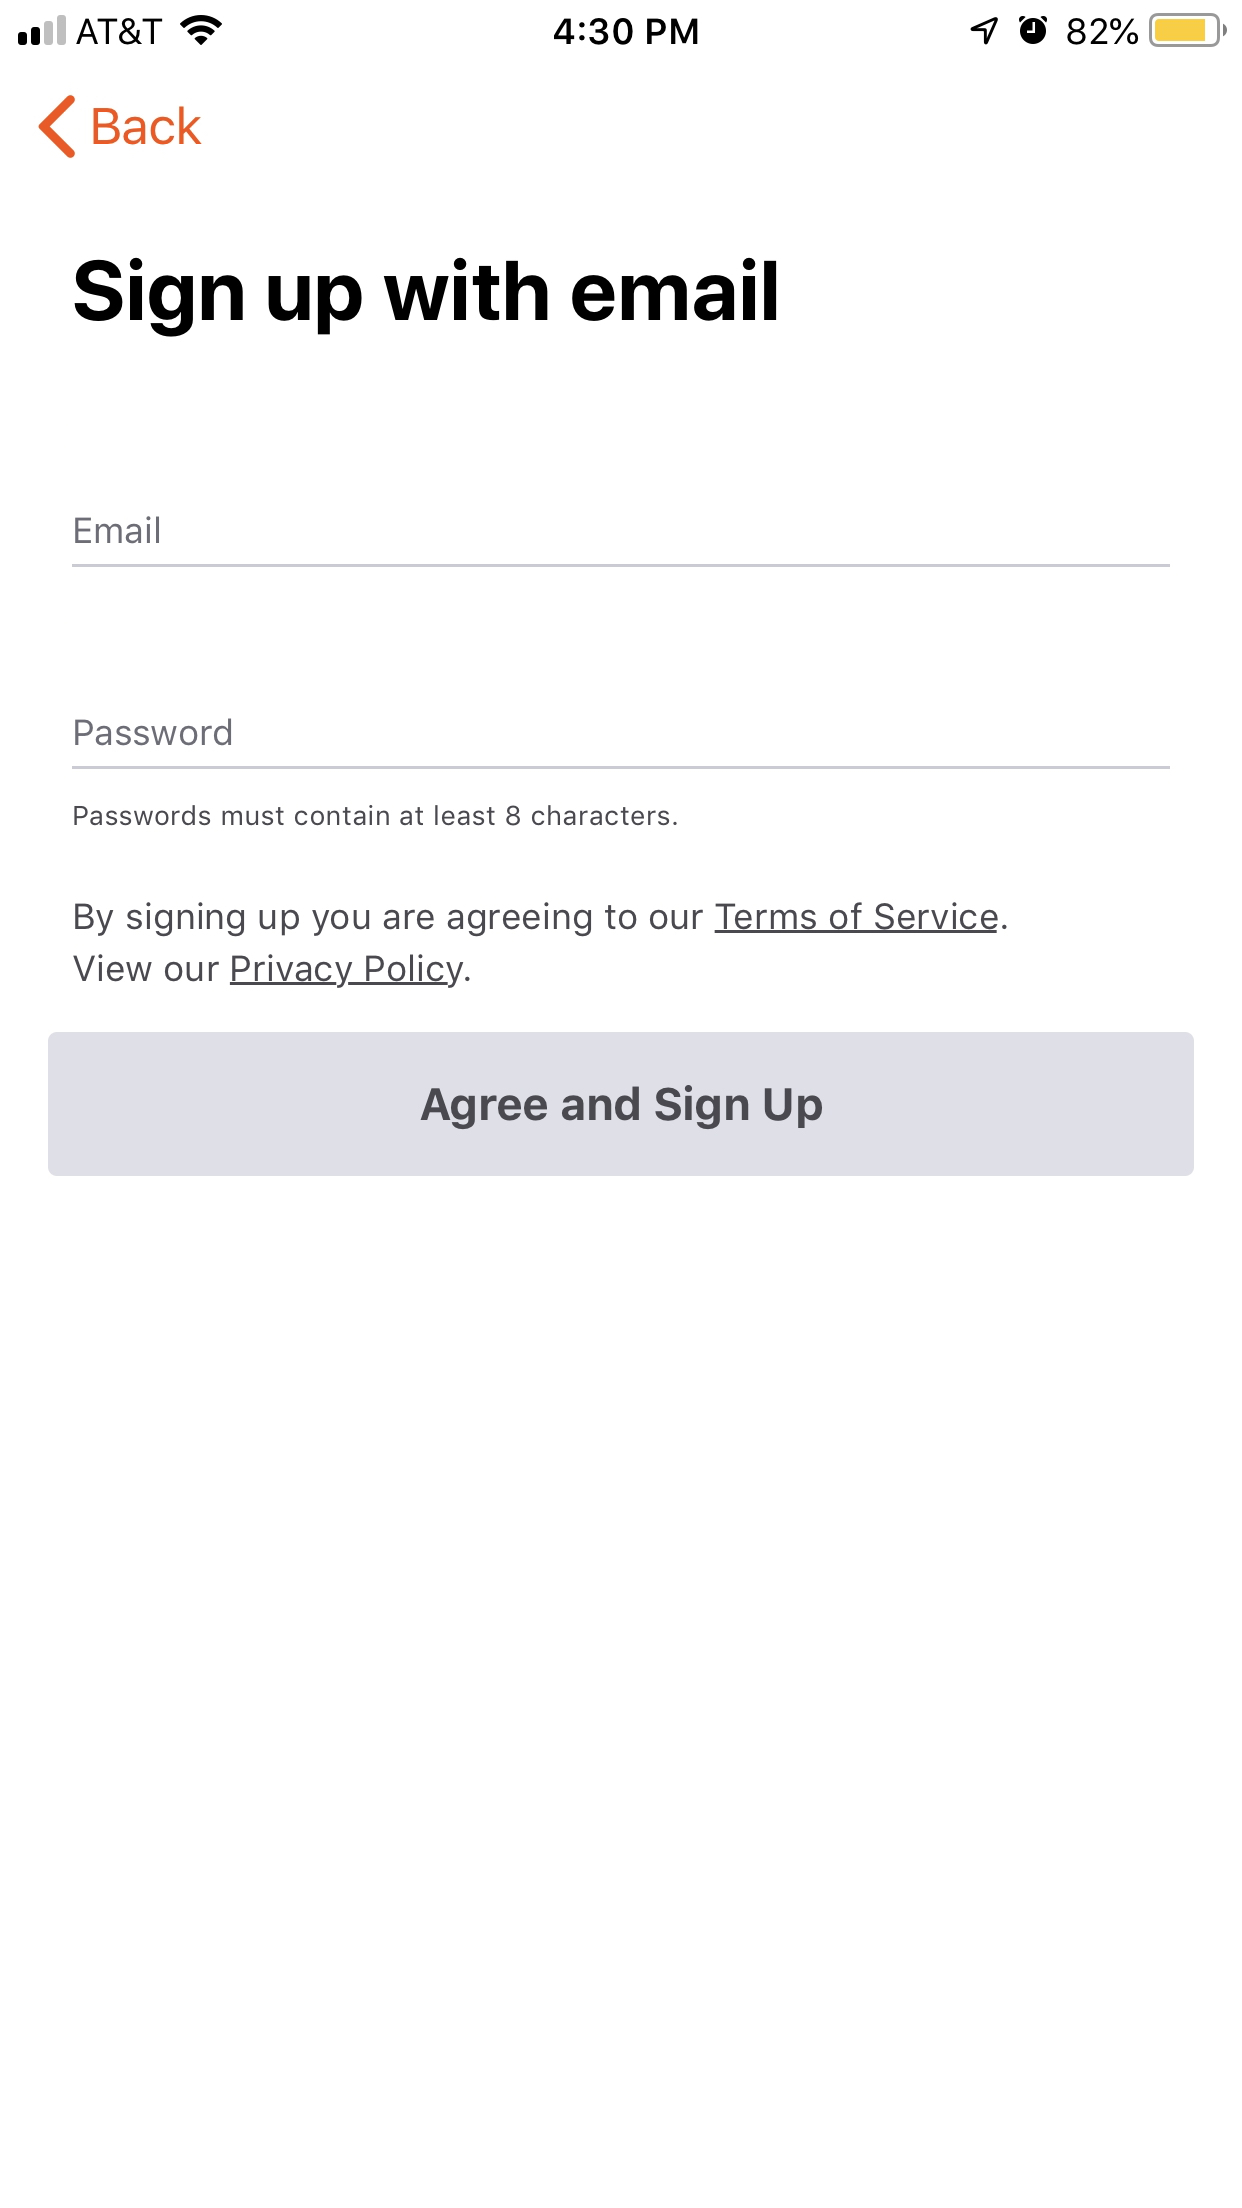EditText: (71, 717, 1171, 770), (71, 516, 1171, 569)
Icon: (38, 96, 77, 161)
Text: (73, 902, 1008, 989), (74, 256, 776, 338), (74, 805, 678, 826), (76, 717, 234, 748), (93, 106, 203, 147), (74, 516, 161, 544)
TextButton: (49, 1033, 1193, 1177)
UpperTaskBar: (2, 2, 1242, 49)
